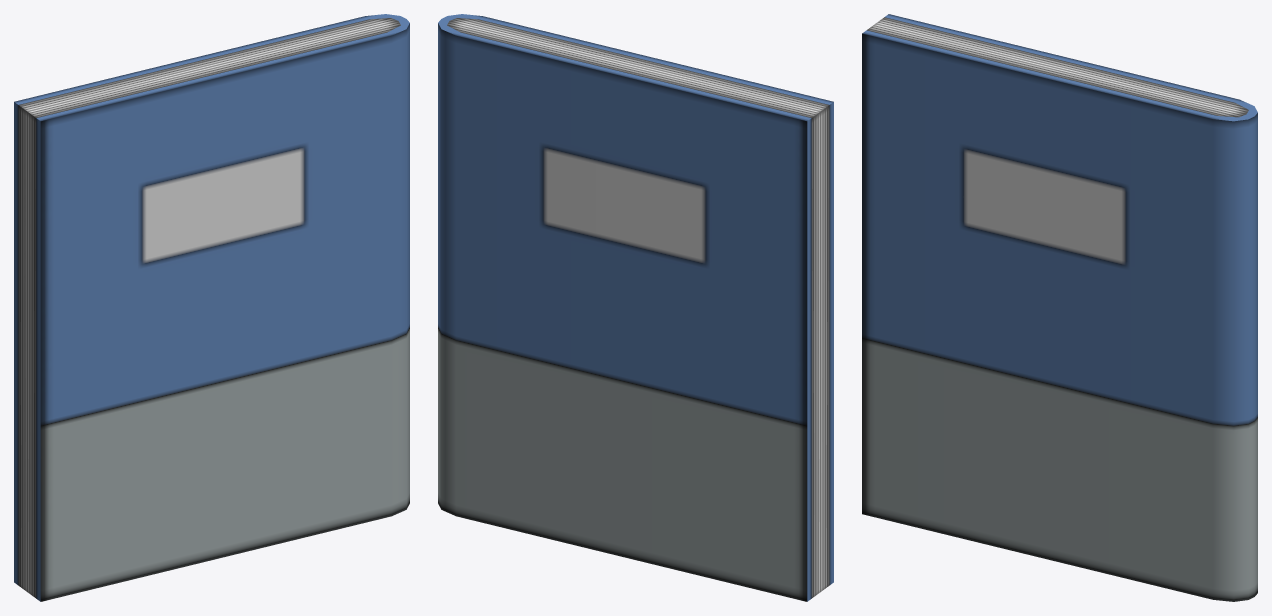
The model's file is book3.fbx.
3 views of the same model, side by side, from view 1: azimuth 30°, elevation 25°; view 2: azimuth 150°, elevation 25°; view 3: azimuth 330°, elevation 25° (orthographic).
Visible parts, largest first — view 1: polySurface210; view 2: polySurface210; view 3: polySurface210.
Boxes of the visible parts, left/top/right/bottom form: polySurface210: left=14, top=14, right=409, bottom=601; polySurface210: left=438, top=14, right=833, bottom=601; polySurface210: left=862, top=14, right=1257, bottom=601.
Size of the model in its own units: 0.3199 by 0.3874 by 0.0391.
